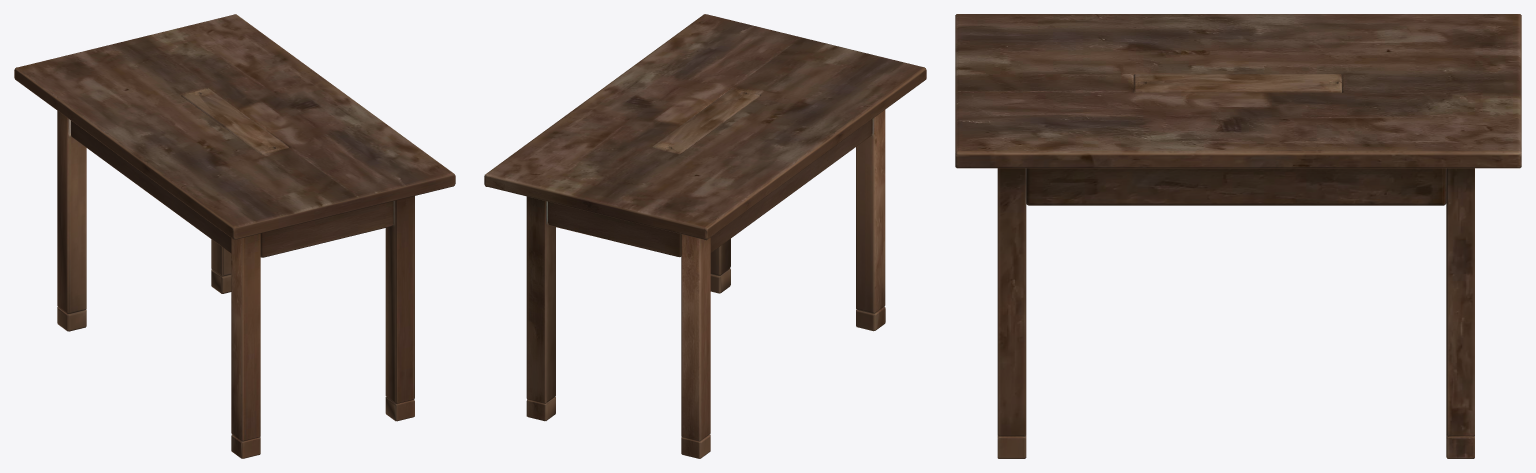
The model's file is Furn_Table_Kitchen.glb.
3 renders of one model, left to right at view 1: azimuth 30°, elevation 25°; view 2: azimuth 150°, elevation 25°; view 3: azimuth 270°, elevation 25°, orthographic. The views are drawn at different scales.
Visible parts, largest first — view 1: tripo_node_0ba386ba-a37d-4393-ab49-327ccc3fdb8e; view 2: tripo_node_0ba386ba-a37d-4393-ab49-327ccc3fdb8e; view 3: tripo_node_0ba386ba-a37d-4393-ab49-327ccc3fdb8e.
Boxes of the visible parts, bbox=[...] form: tripo_node_0ba386ba-a37d-4393-ab49-327ccc3fdb8e: bbox=[14, 14, 455, 458]; tripo_node_0ba386ba-a37d-4393-ab49-327ccc3fdb8e: bbox=[484, 14, 926, 458]; tripo_node_0ba386ba-a37d-4393-ab49-327ccc3fdb8e: bbox=[955, 14, 1521, 458].
Bounding box in the file's own units: 0.6986 × 0.75 × 1.19.
Materials: 1 (1 with a texture image).
